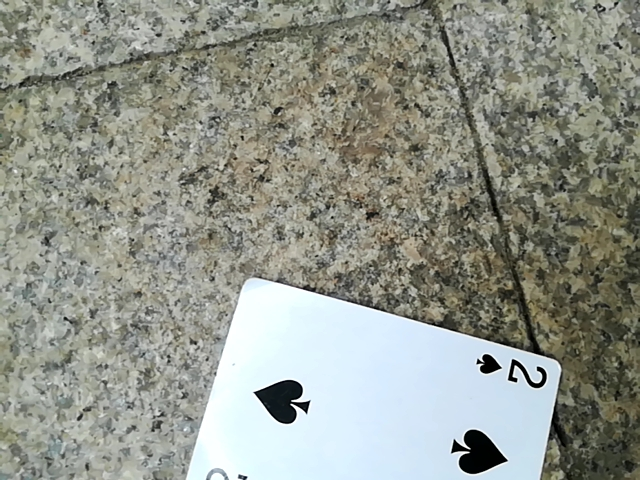ht 2: (168, 274, 555, 480)
